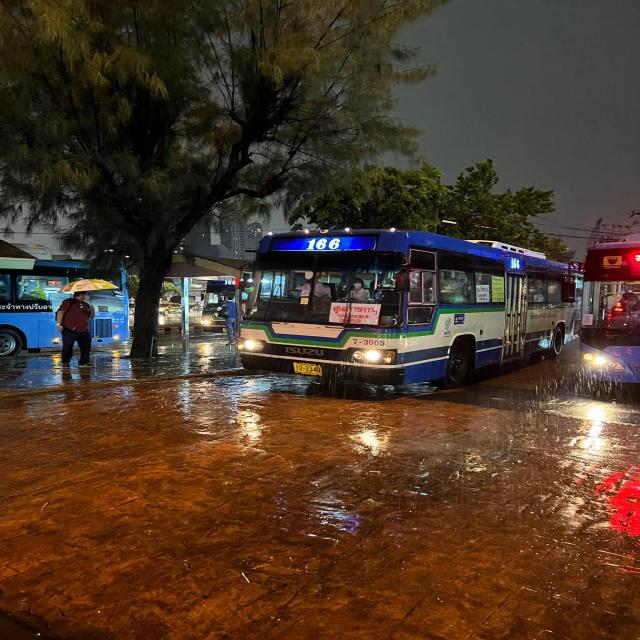BMTA-bus: (235, 223, 585, 390)
Bus-Line-Number: (304, 238, 343, 250)
Destination-Sign-Extra-Bus-Expressway: (328, 302, 381, 326)
